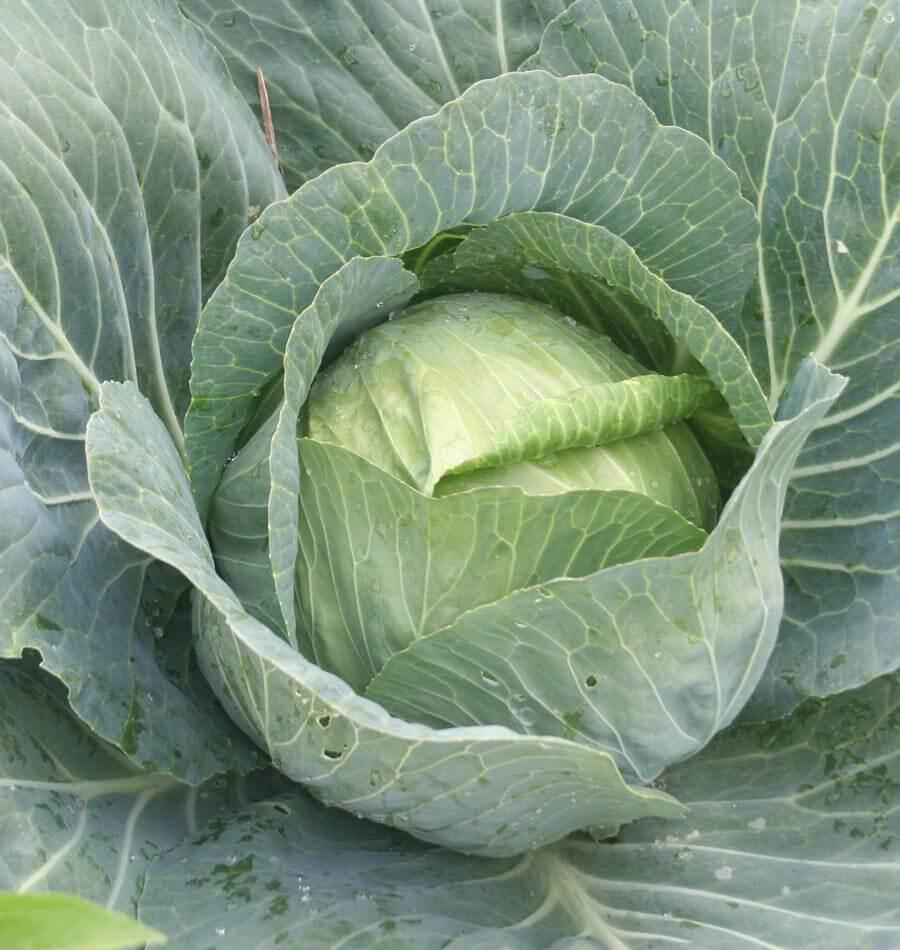cabbage: (0, 0, 898, 948)
